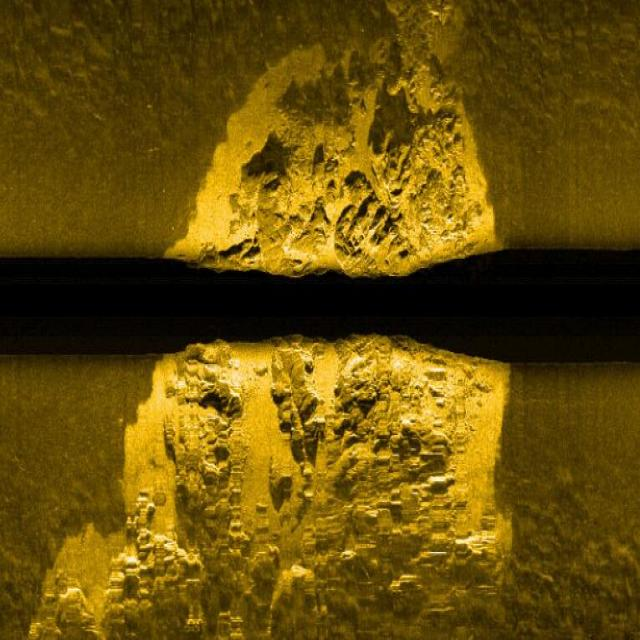other: (102, 334, 520, 631), (182, 58, 502, 286)
